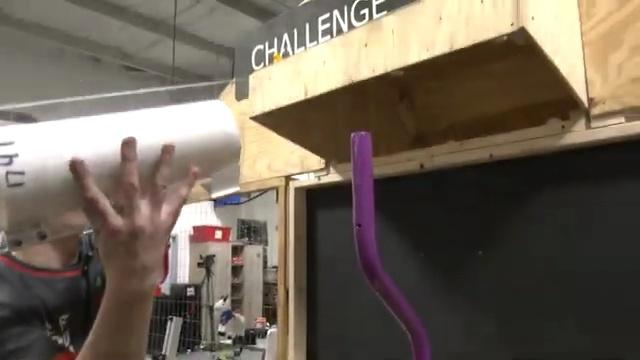CORAL: (0, 97, 241, 249)
